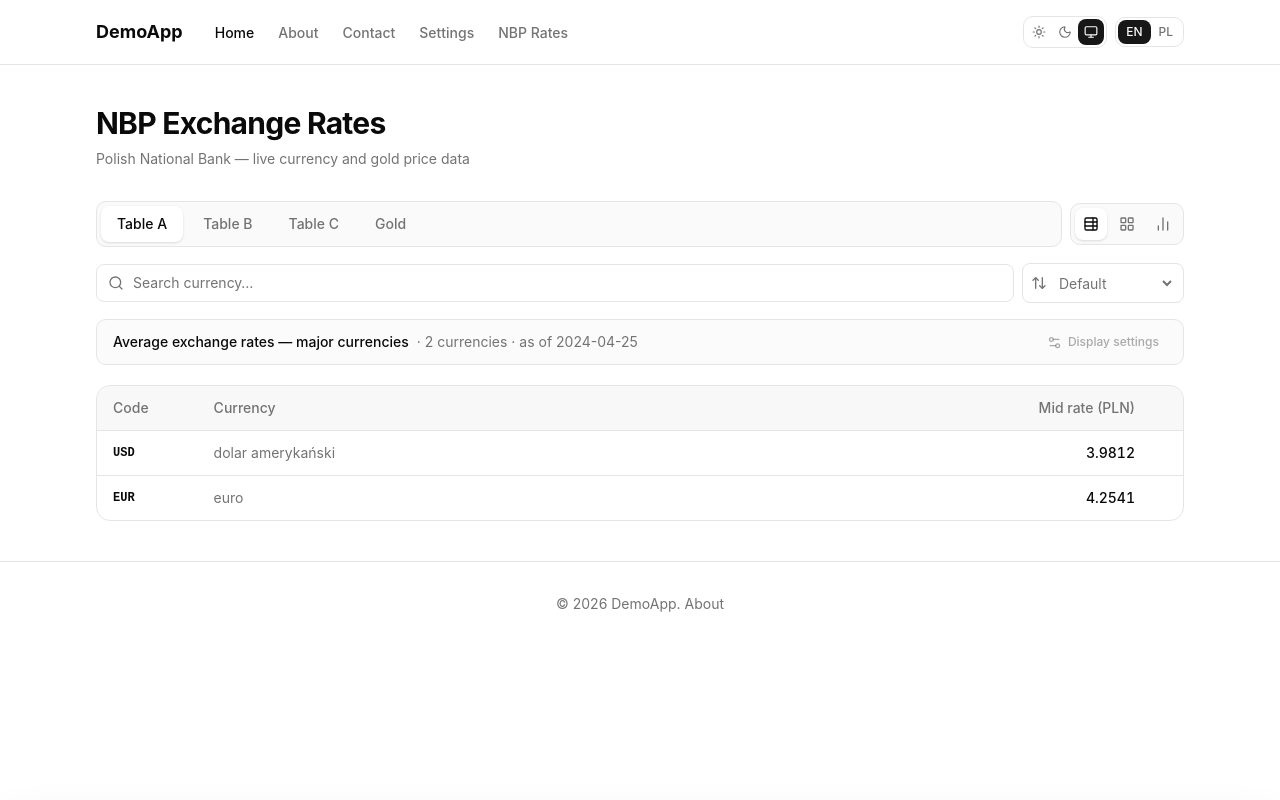
NbpPage › filters rates by search query
Expected: the text "USD" is shown, left=113, top=446, right=135, bottom=460
In the search field: (555,283) left=96, top=264, right=1014, bottom=302, type "euro"
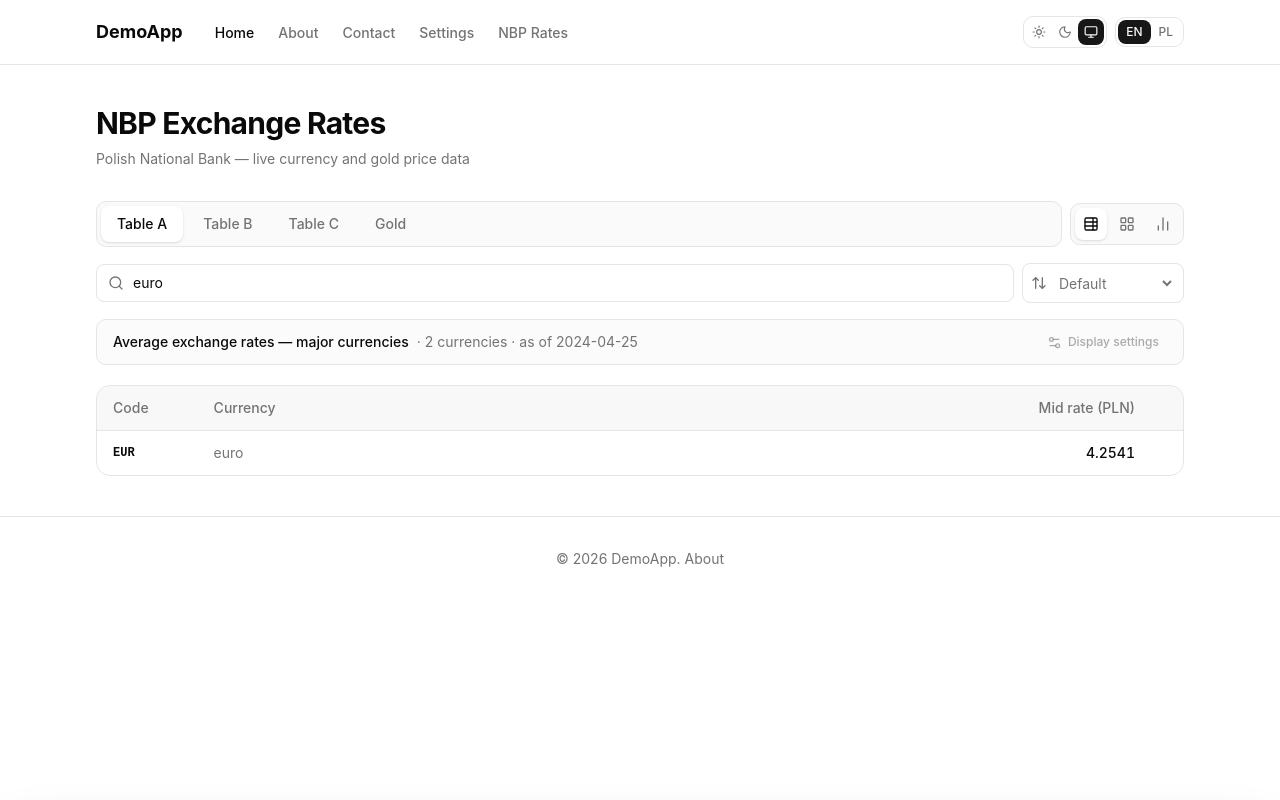
Expected: the text "EUR" is shown, left=113, top=446, right=135, bottom=460
Result: the text "USD" is gone
